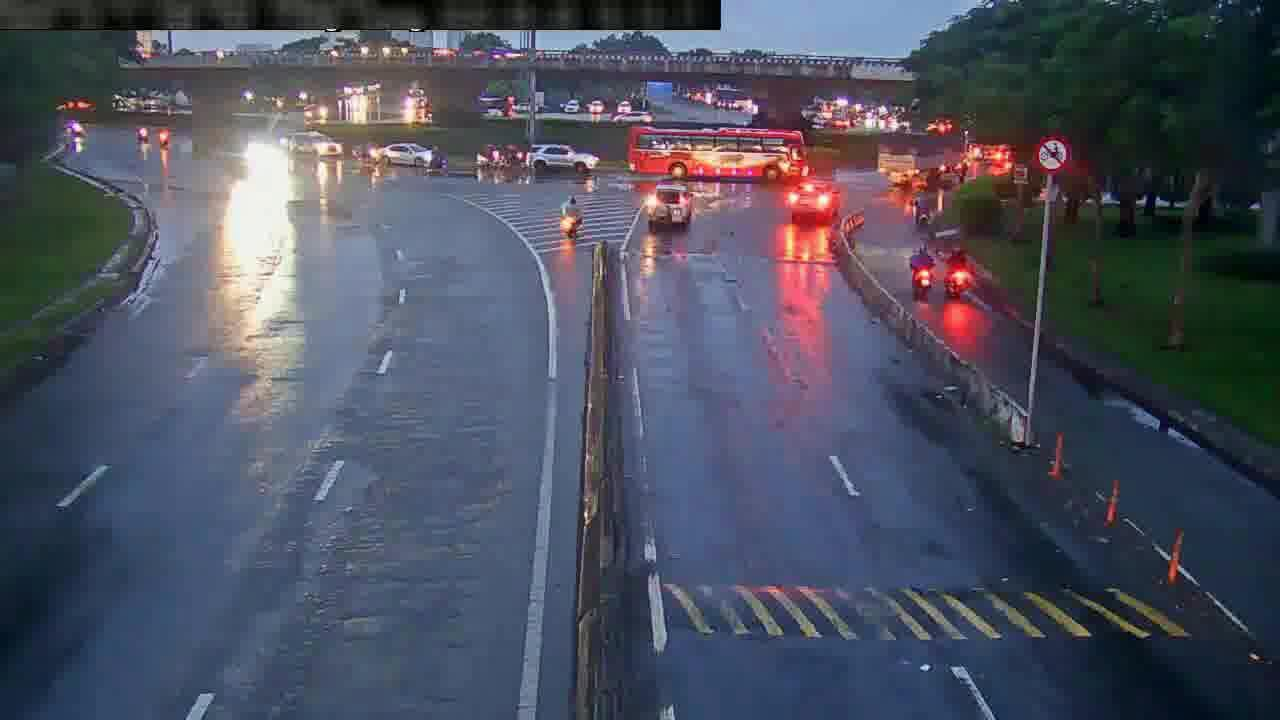14: (623, 122, 811, 185)
container: (783, 178, 848, 224), (521, 140, 596, 174), (649, 180, 692, 230), (369, 140, 436, 168), (283, 130, 340, 161)
motorbike: (944, 246, 975, 301), (908, 239, 935, 295), (558, 194, 586, 241)
